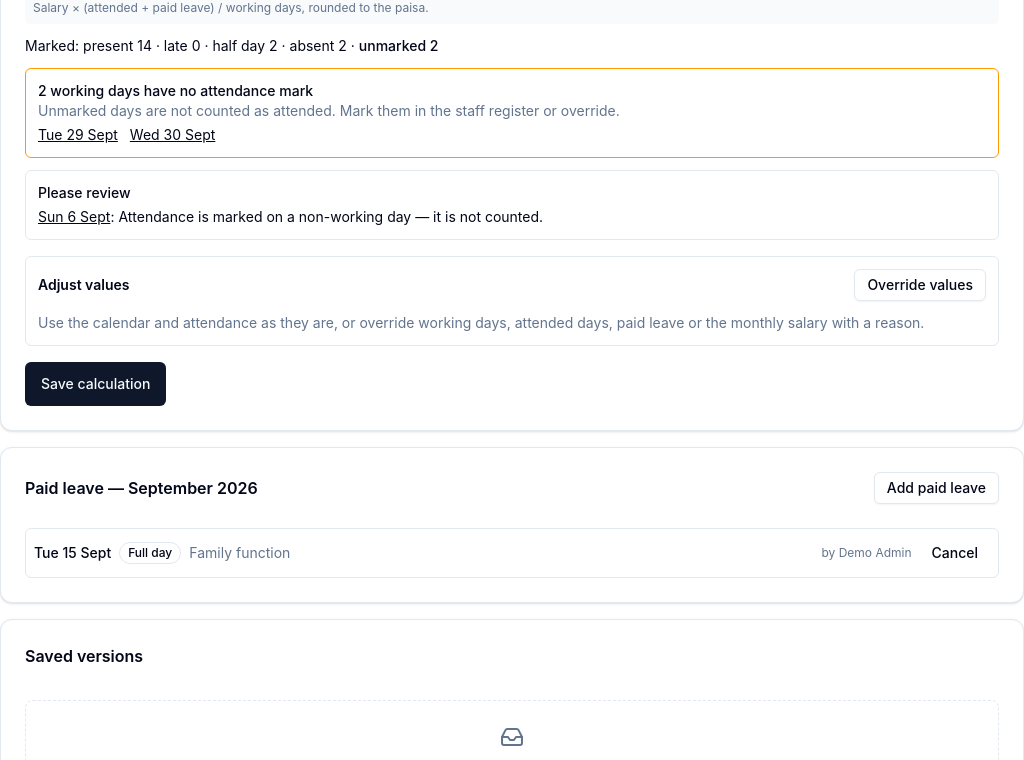
Test: salary calculator (manager) › Save → "Saved as version 1"; saving again unchanged → "Already saved — no new version"
(page scrolled)
Click the button "Save calculation" at (96, 384), box top-left (25, 362), bottom-right (166, 406)
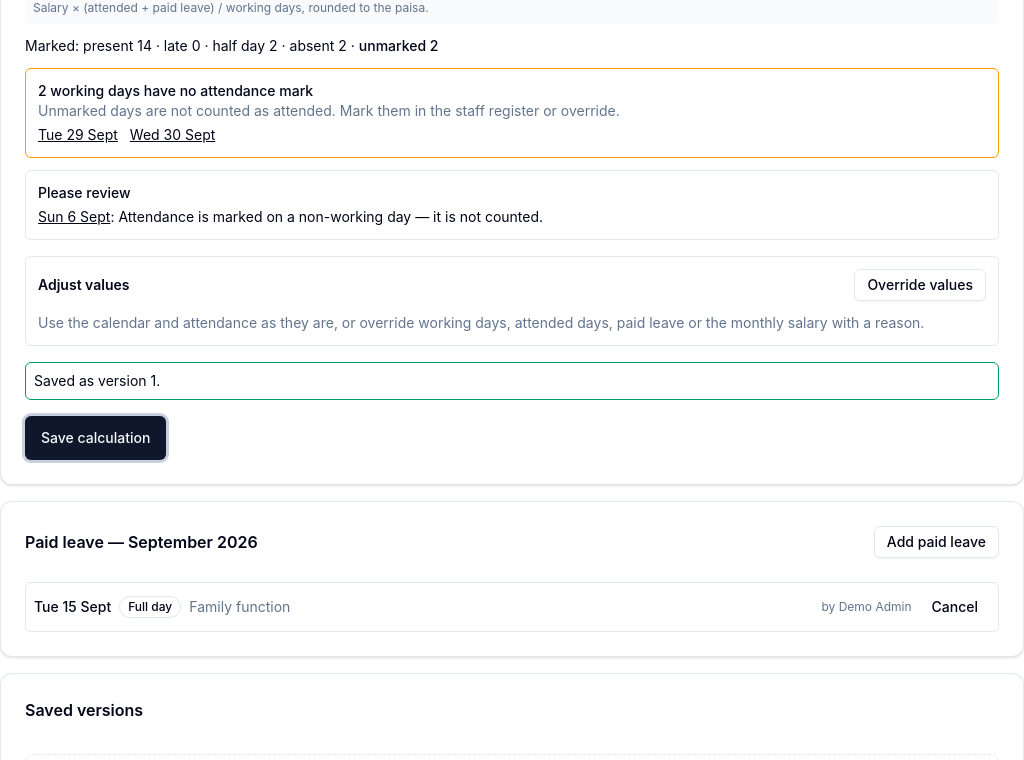
Now the message with test id "salary-save-result" reads "Saved as version 1.", box top-left (25, 362), bottom-right (999, 400)
Click the button "Save calculation" at (96, 438), box top-left (25, 416), bottom-right (166, 460)
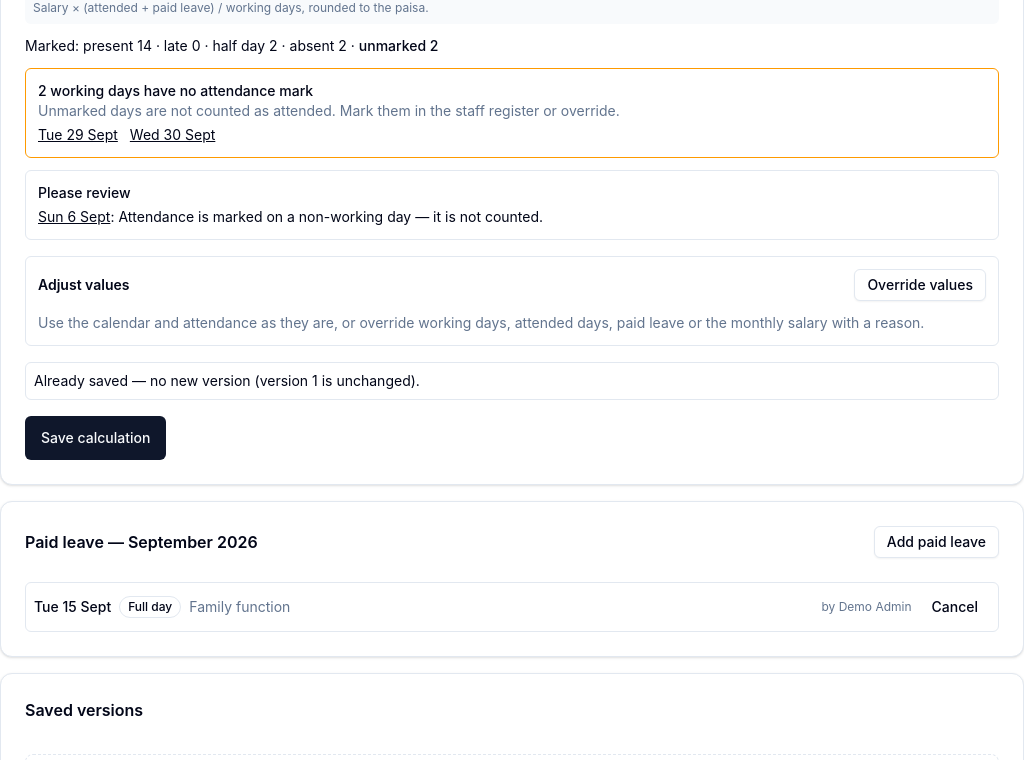
Now the text "Already saved — no new version (version 1 is unchanged)." is shown, box top-left (25, 362), bottom-right (999, 400)
